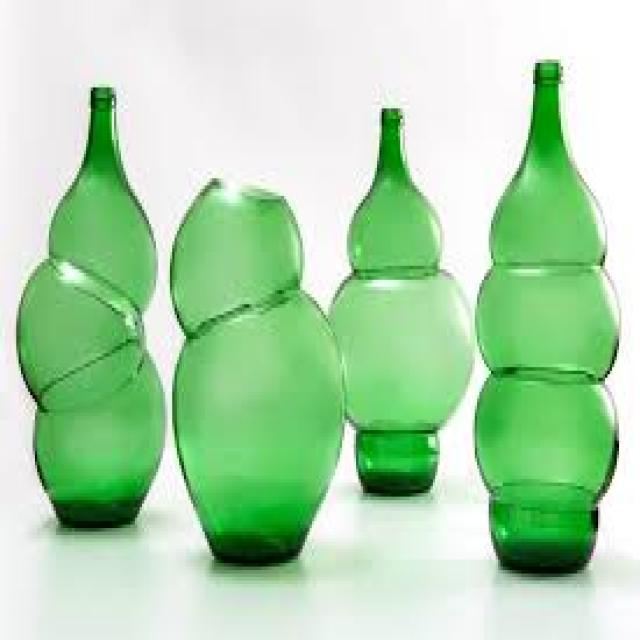glass: (472, 60, 617, 570), (168, 171, 345, 563), (14, 84, 168, 532), (326, 102, 470, 493)
